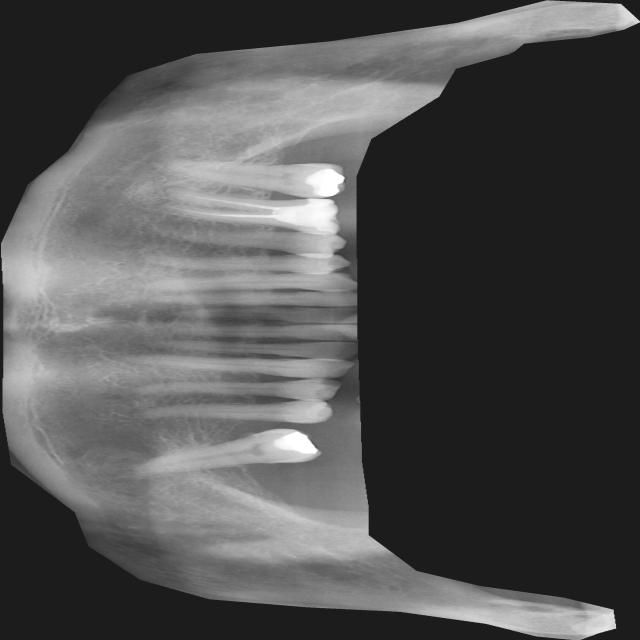mandibula: (0, 0, 640, 640)
